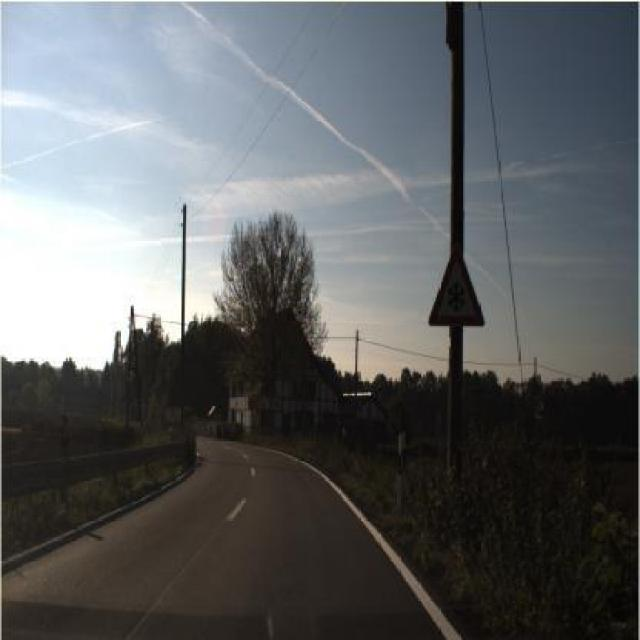traffic_sign: (427, 242, 487, 330)
